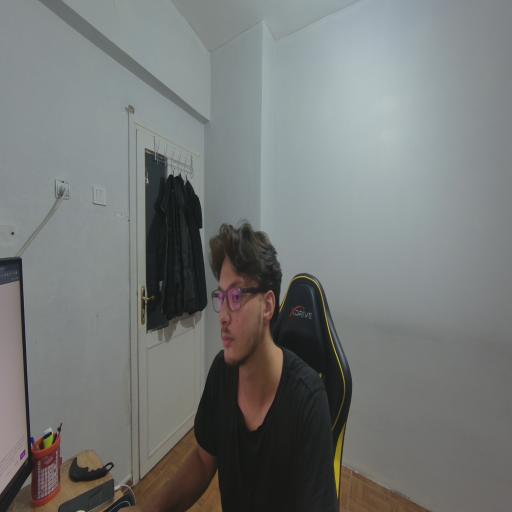cuma-face-v2: (209, 225, 292, 377)
